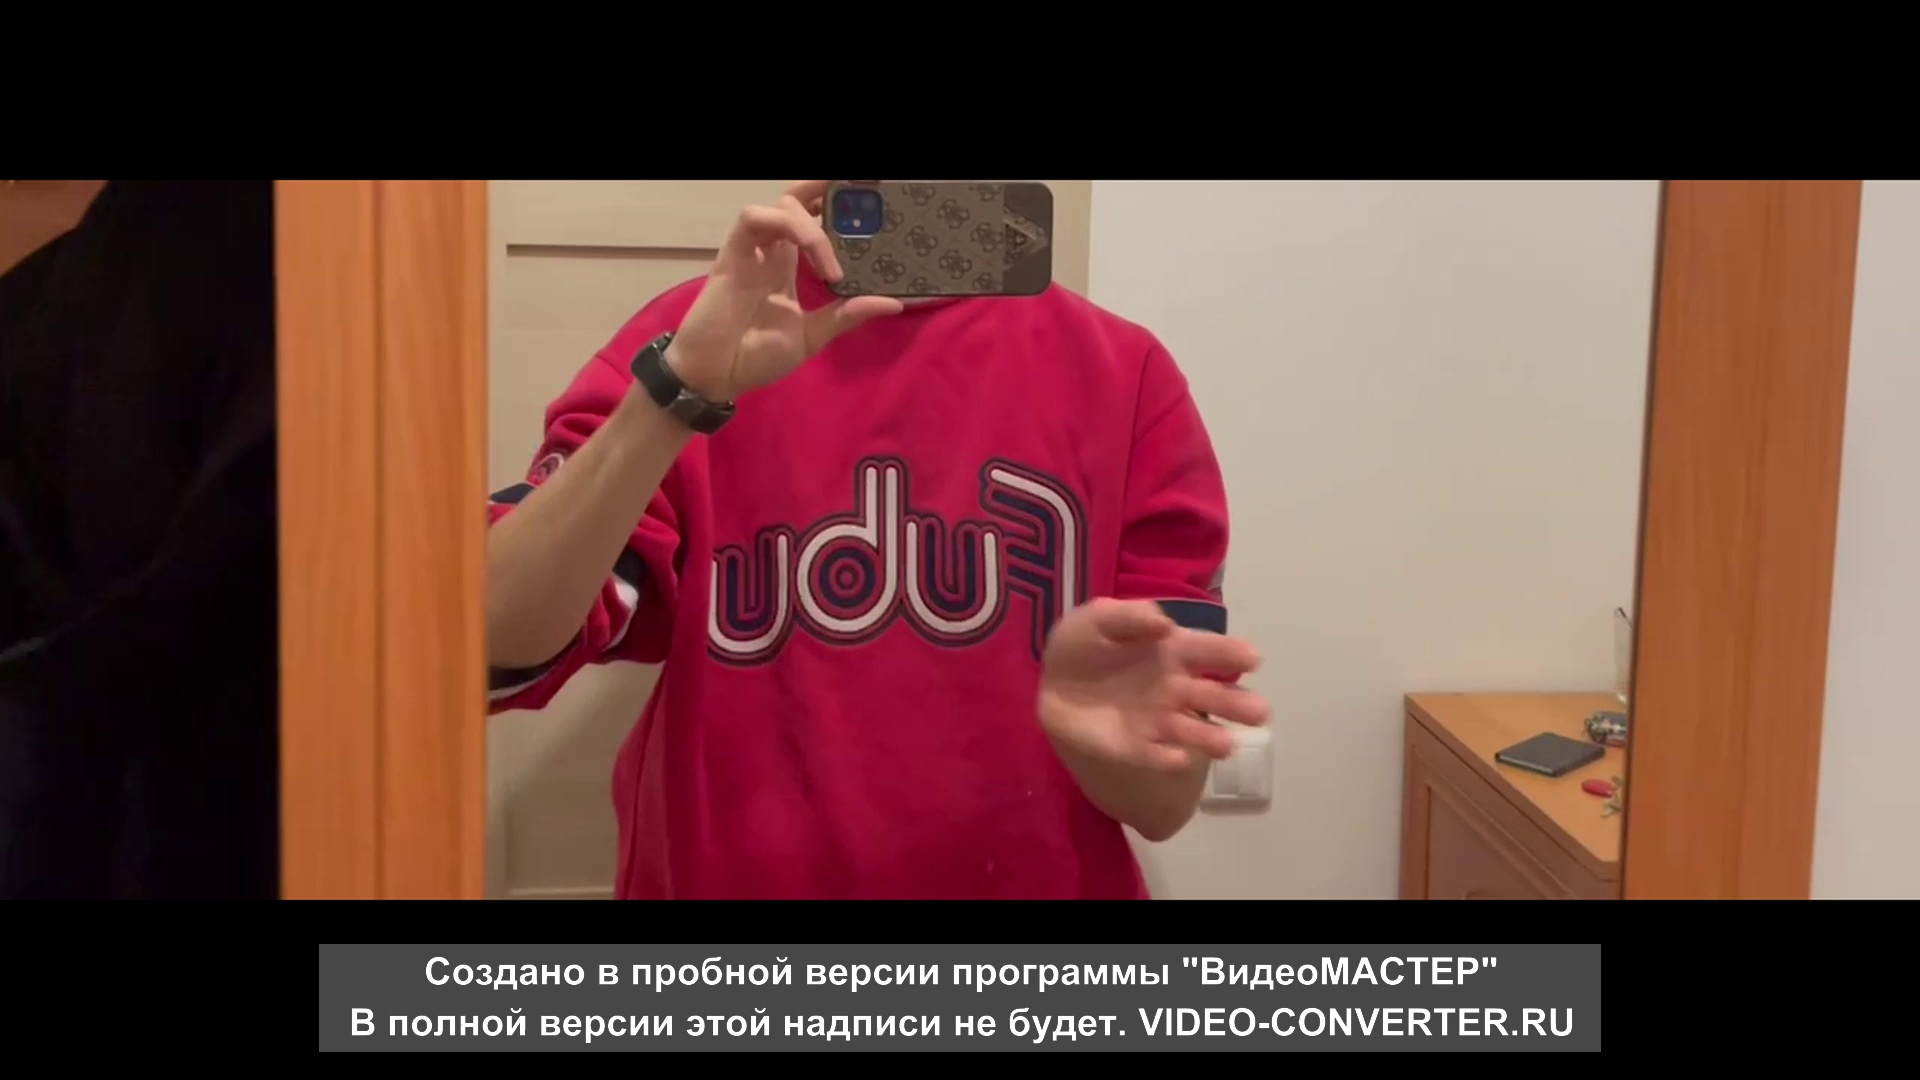Ладонь: (1044, 599, 1269, 775)
